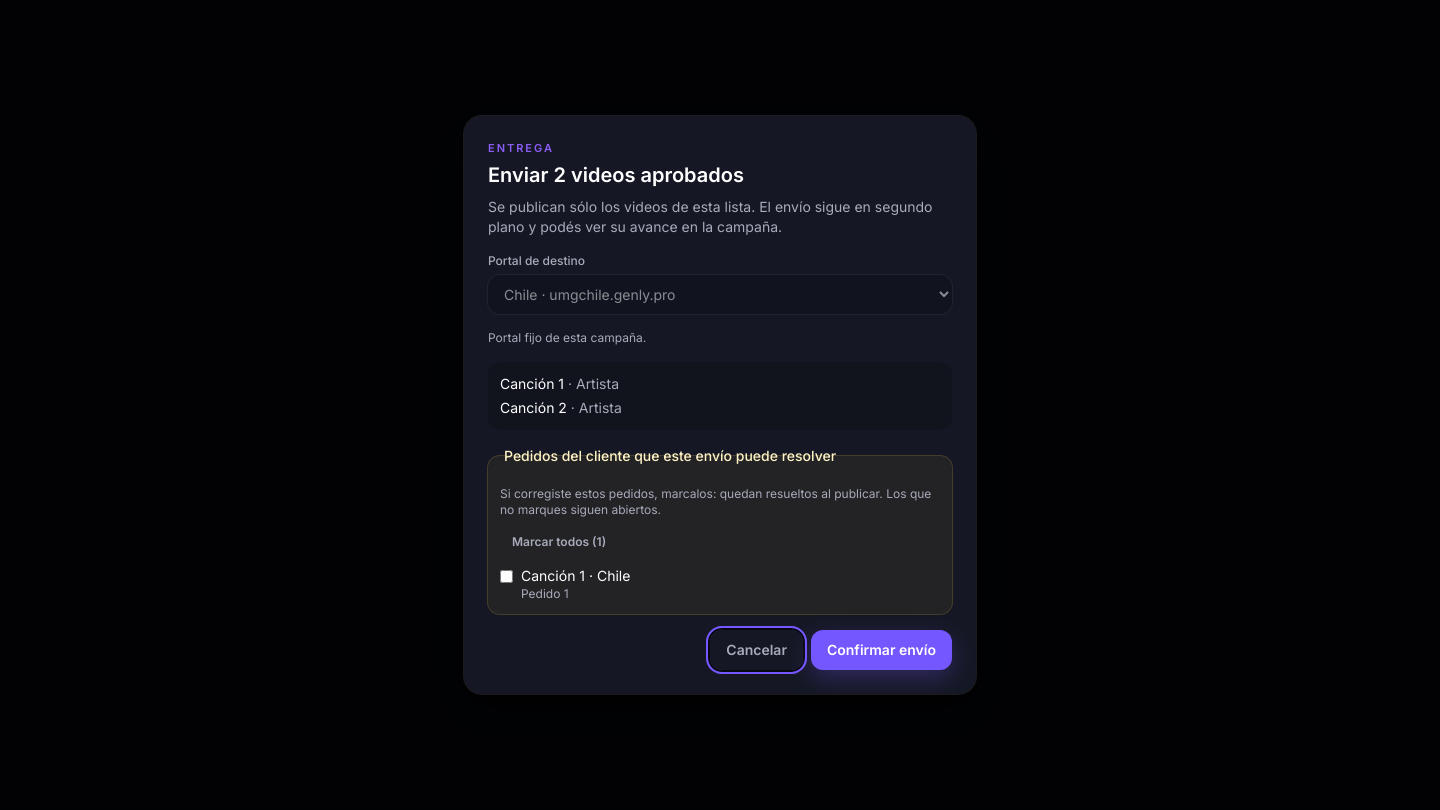
Test: send to portal: closing client requests › explains a rejected tick in plain words and keeps the dialog open
The width and height of the screenshot is (1440, 810).
Click the checkbox named "Resolver el pedido de Canción 1" at (506, 576), box [500, 570, 513, 583]
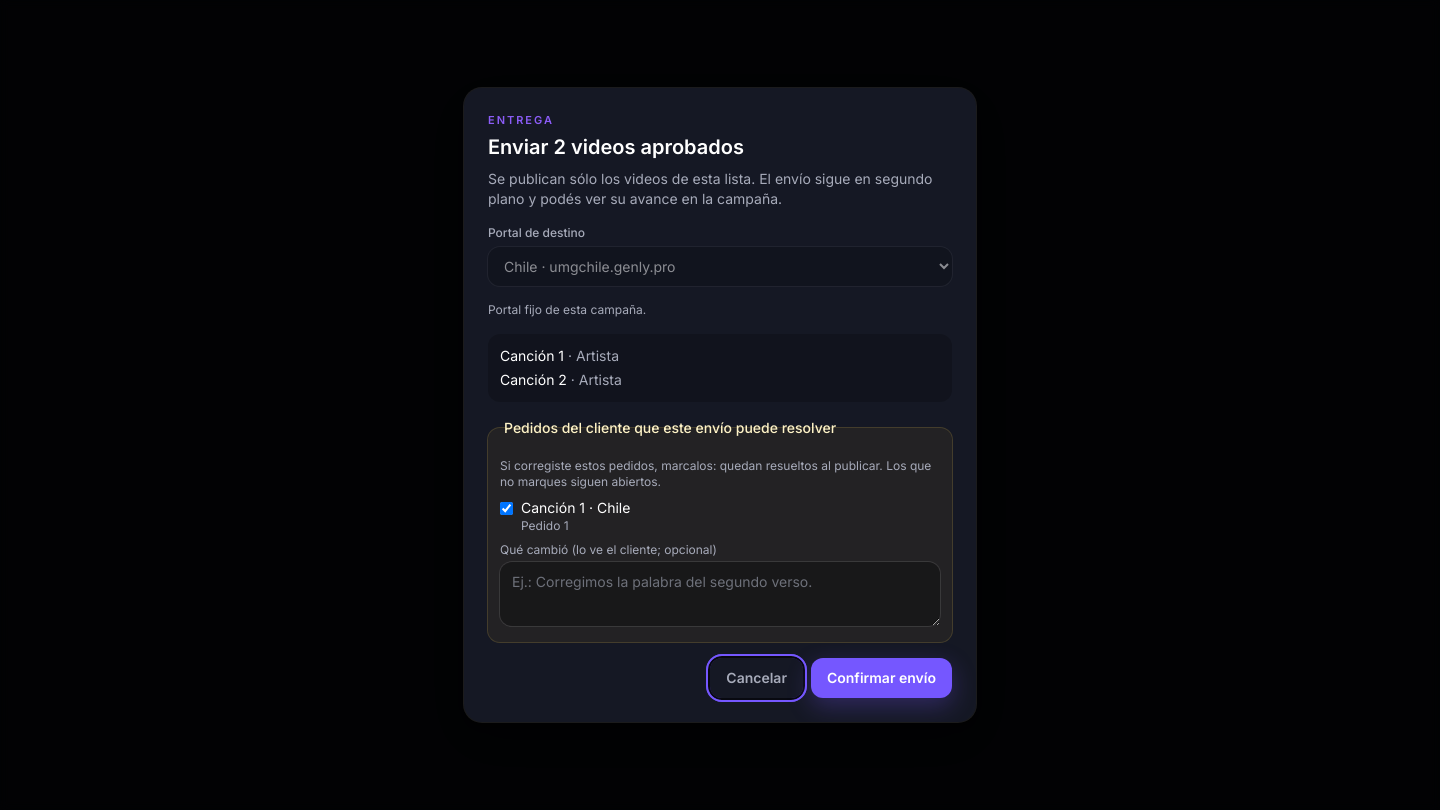
Click the button "Confirmar envío" at (882, 678), box [811, 658, 952, 698]
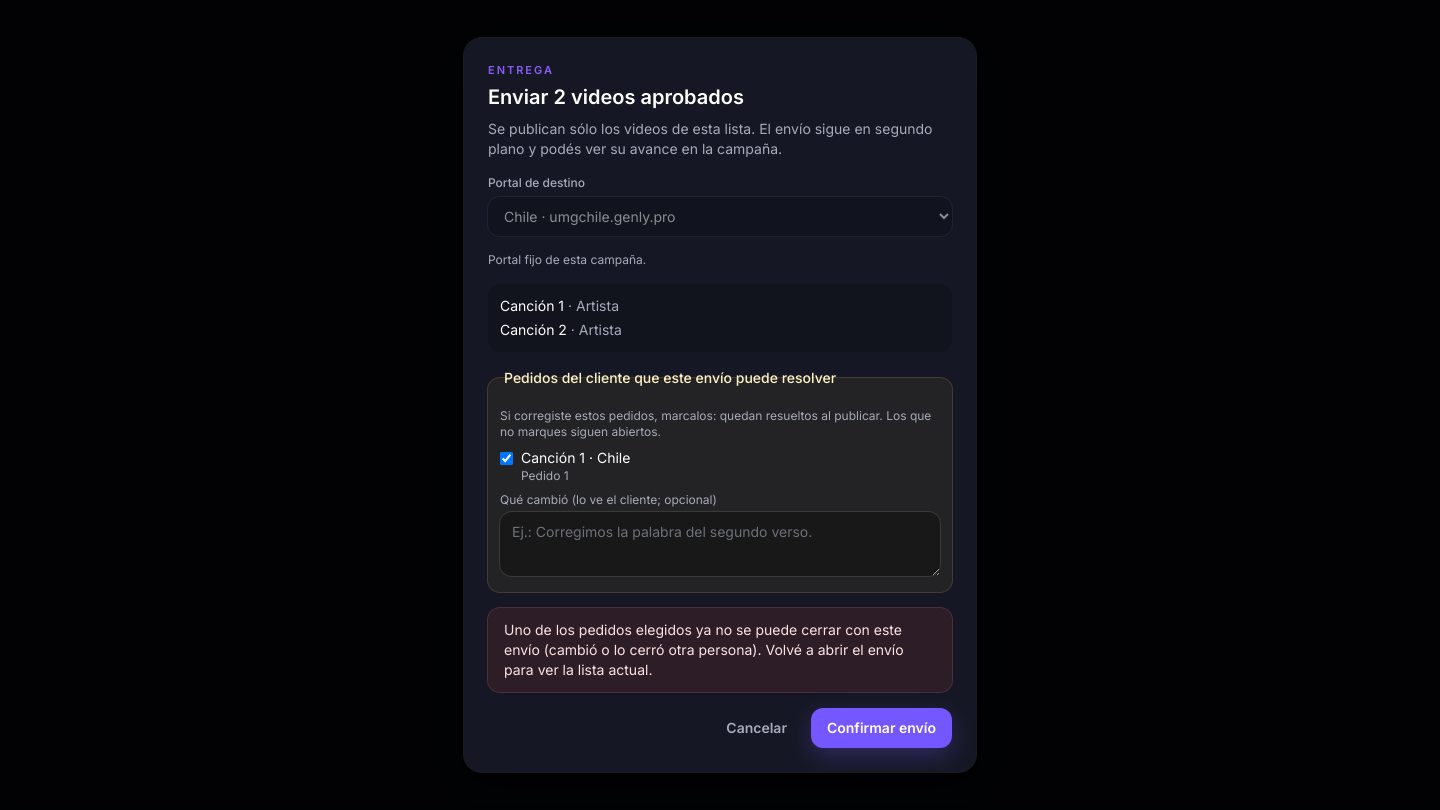
Expected: the text "ya no se puede cerrar con este envío" is shown, [504, 621, 904, 678]
